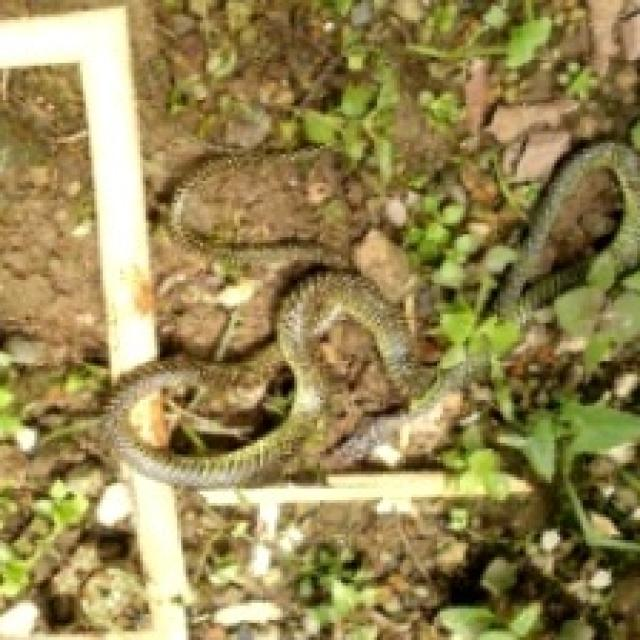paradise tree snake: (109, 140, 637, 486), (109, 271, 420, 486)
